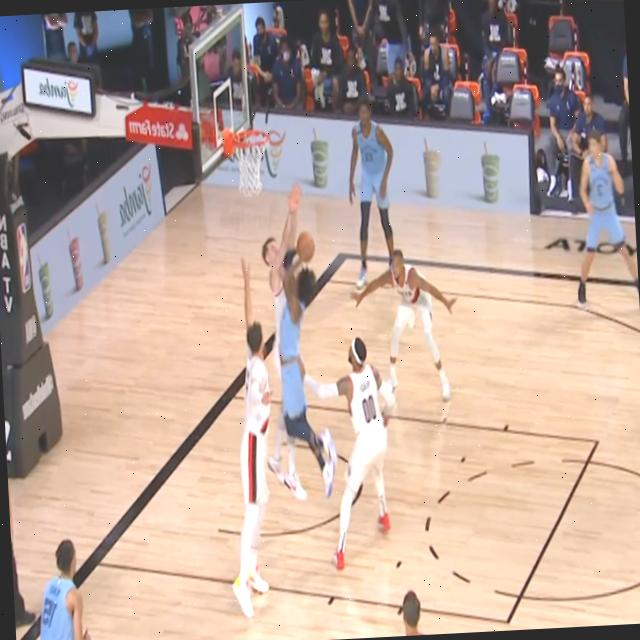foul: (256, 166, 344, 534)
no foul: (210, 242, 292, 630), (314, 318, 406, 586)
